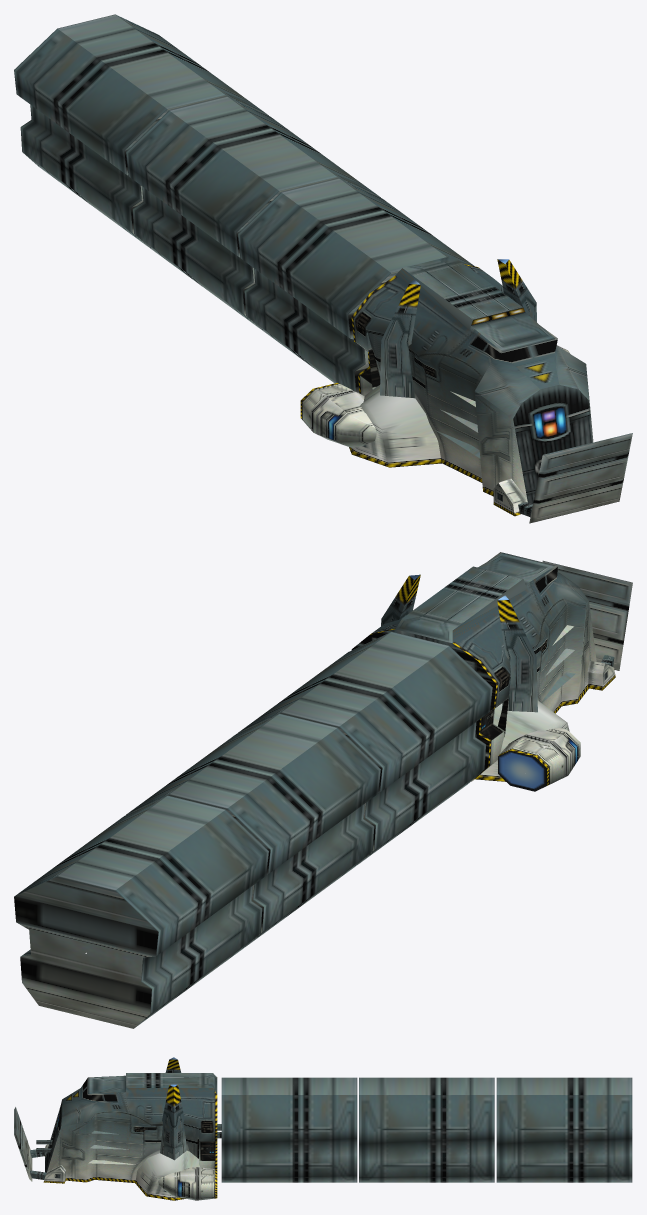
The model's file is utl11.obj.
3 views of the same model, one above another, from view 1: azimuth 30°, elevation 25°; view 2: azimuth 150°, elevation 25°; view 3: azimuth 270°, elevation 25° (orthographic). The views are drawn at different scales.
Visible parts, largest first — view 1: frm-fuselg1, frm-fuselg3, frm-fuselg2, frm-fuselg, frm-tractr, frm-bthrust0, frm-brthrust, frm-rtthrust, frm-ltthrust, frm-rbtractr1; view 2: frm-fuselg3, frm-fuselg2, frm-fuselg, frm-fuselg1, frm-brthrust, frm-tractr, frm-rtthrust, frm-bthrust0, frm-ltthrust, frm-rbtractr1; view 3: frm-fuselg, frm-fuselg3, frm-fuselg2, frm-fuselg1, frm-bthrust0, frm-blthrust, frm-ltthrust, frm-tractr, frm-lbtractr1.
Boxes of the visible parts, x1,y1,x2,y2 form: frm-fuselg1: [351, 256, 593, 504]; frm-fuselg3: [14, 14, 268, 246]; frm-fuselg2: [126, 96, 380, 328]; frm-fuselg: [238, 178, 474, 392]; frm-tractr: [529, 433, 632, 523]; frm-bthrust0: [349, 385, 441, 467]; frm-brthrust: [300, 383, 376, 447]; frm-rtthrust: [380, 279, 420, 398]; frm-ltthrust: [497, 259, 536, 322]; frm-rbtractr1: [493, 478, 527, 516]; frm-fuselg3: [14, 795, 268, 1028]; frm-fuselg2: [126, 713, 380, 946]; frm-fuselg: [238, 632, 492, 864]; frm-fuselg1: [351, 552, 596, 781]; frm-brthrust: [498, 727, 580, 791]; frm-tractr: [542, 560, 632, 670]; frm-rtthrust: [497, 595, 537, 712]; frm-bthrust0: [475, 700, 569, 781]; frm-ltthrust: [381, 574, 420, 626]; frm-rbtractr1: [587, 661, 615, 690]; frm-fuselg: [221, 1077, 357, 1182]; frm-fuselg3: [496, 1077, 632, 1182]; frm-fuselg2: [359, 1077, 494, 1182]; frm-fuselg1: [45, 1073, 217, 1182]; frm-bthrust0: [135, 1150, 199, 1200]; frm-blthrust: [158, 1167, 217, 1200]; frm-ltthrust: [160, 1084, 186, 1160]; frm-tractr: [14, 1107, 32, 1181]; frm-lbtractr1: [43, 1165, 65, 1183].
Size of what is drawn, in the model's own units: 7.26 by 4.27 by 24.83.
